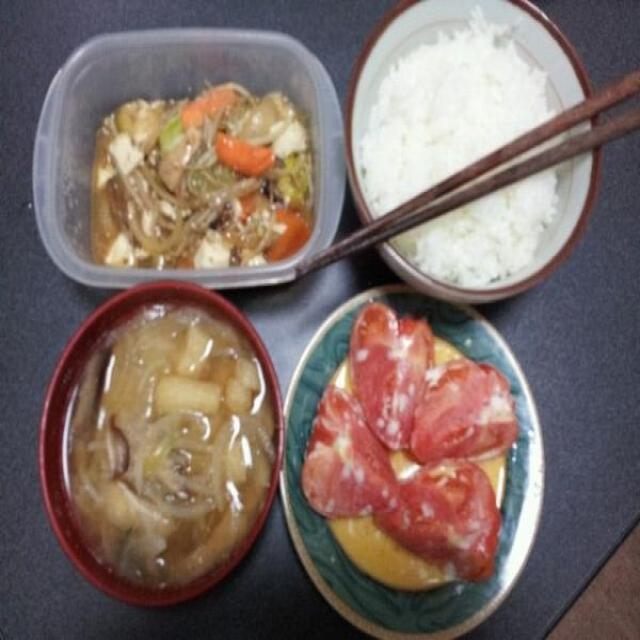Rice: (370, 25, 570, 257)
